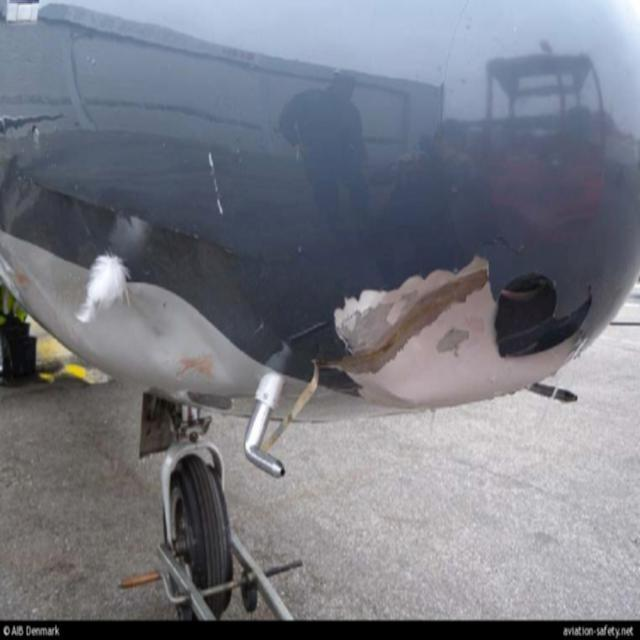crack: (477, 226, 530, 263)
dent: (121, 291, 235, 383), (383, 326, 448, 405)
